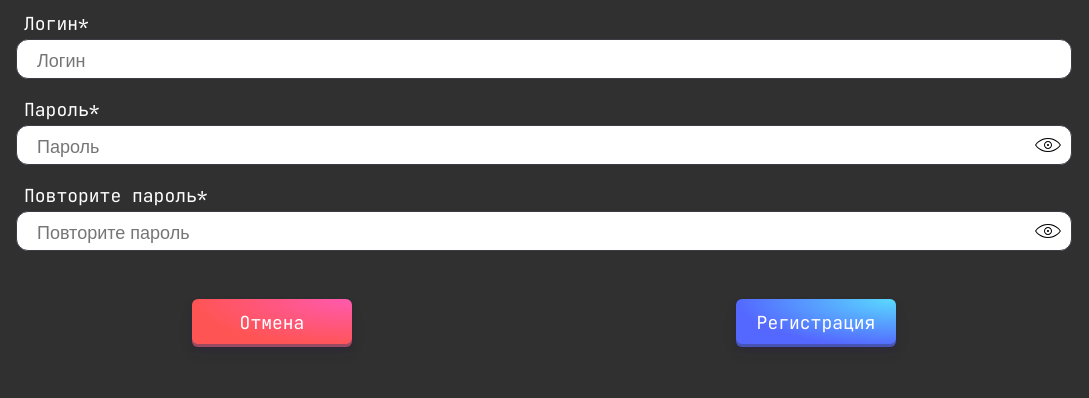
AuthModal Register component tests › Register fail because login already exists
Type "Login" into the field with placeholder "Логин" at (544, 59), box [16,39,1072,79]
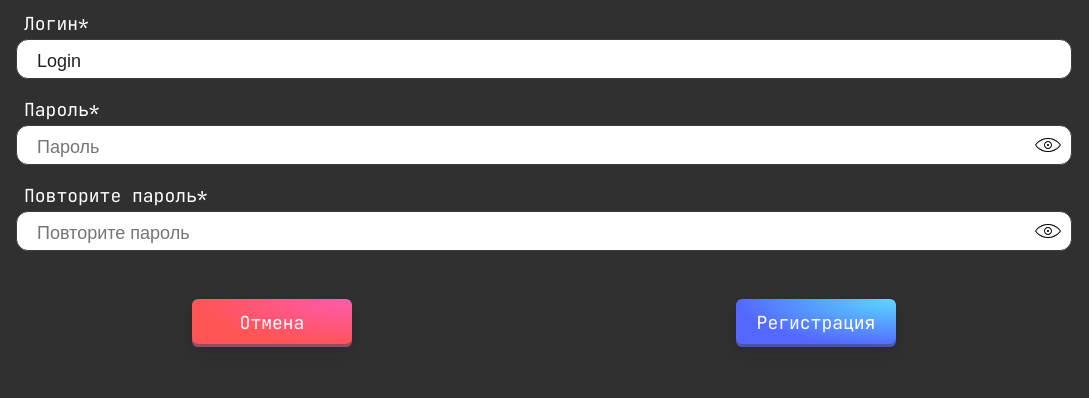
Type "password" into the password field with placeholder "Пароль" at (544, 145), box [16,125,1072,165]
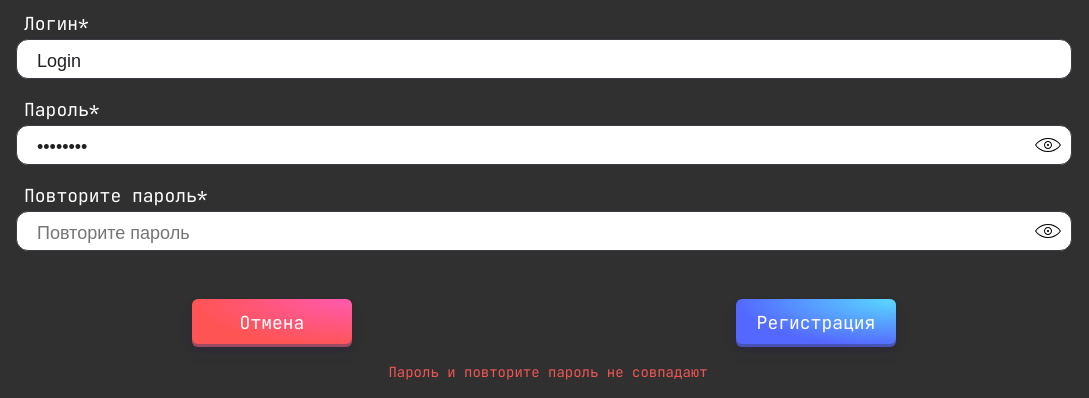
Type "password" into the password field with placeholder "Повторите пароль" at (544, 231), box [16,211,1072,251]
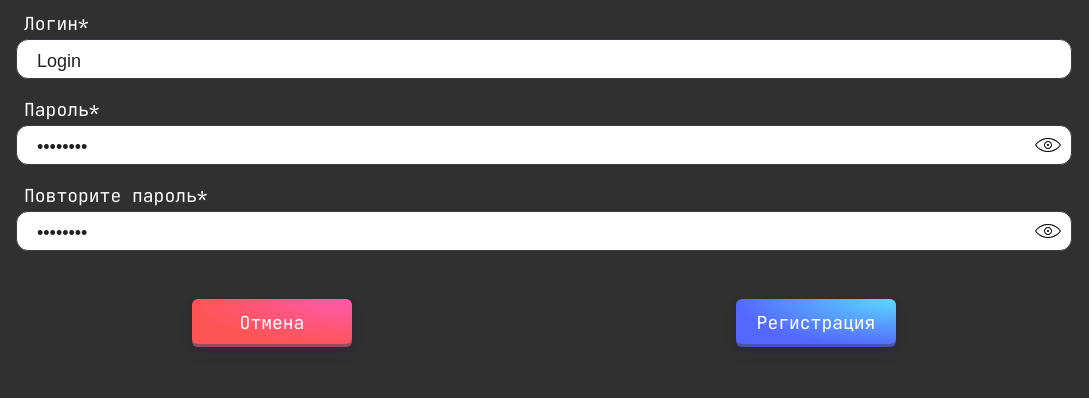
Click the button "Регистрация" at (816, 323), box [736,299,896,347]
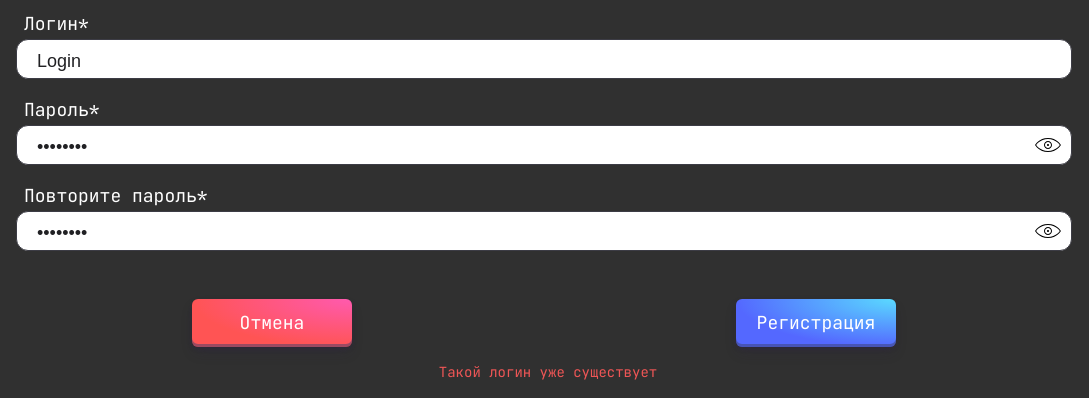
Expected: the text "Такой логин уже существует" is shown, [431,363,657,381]
